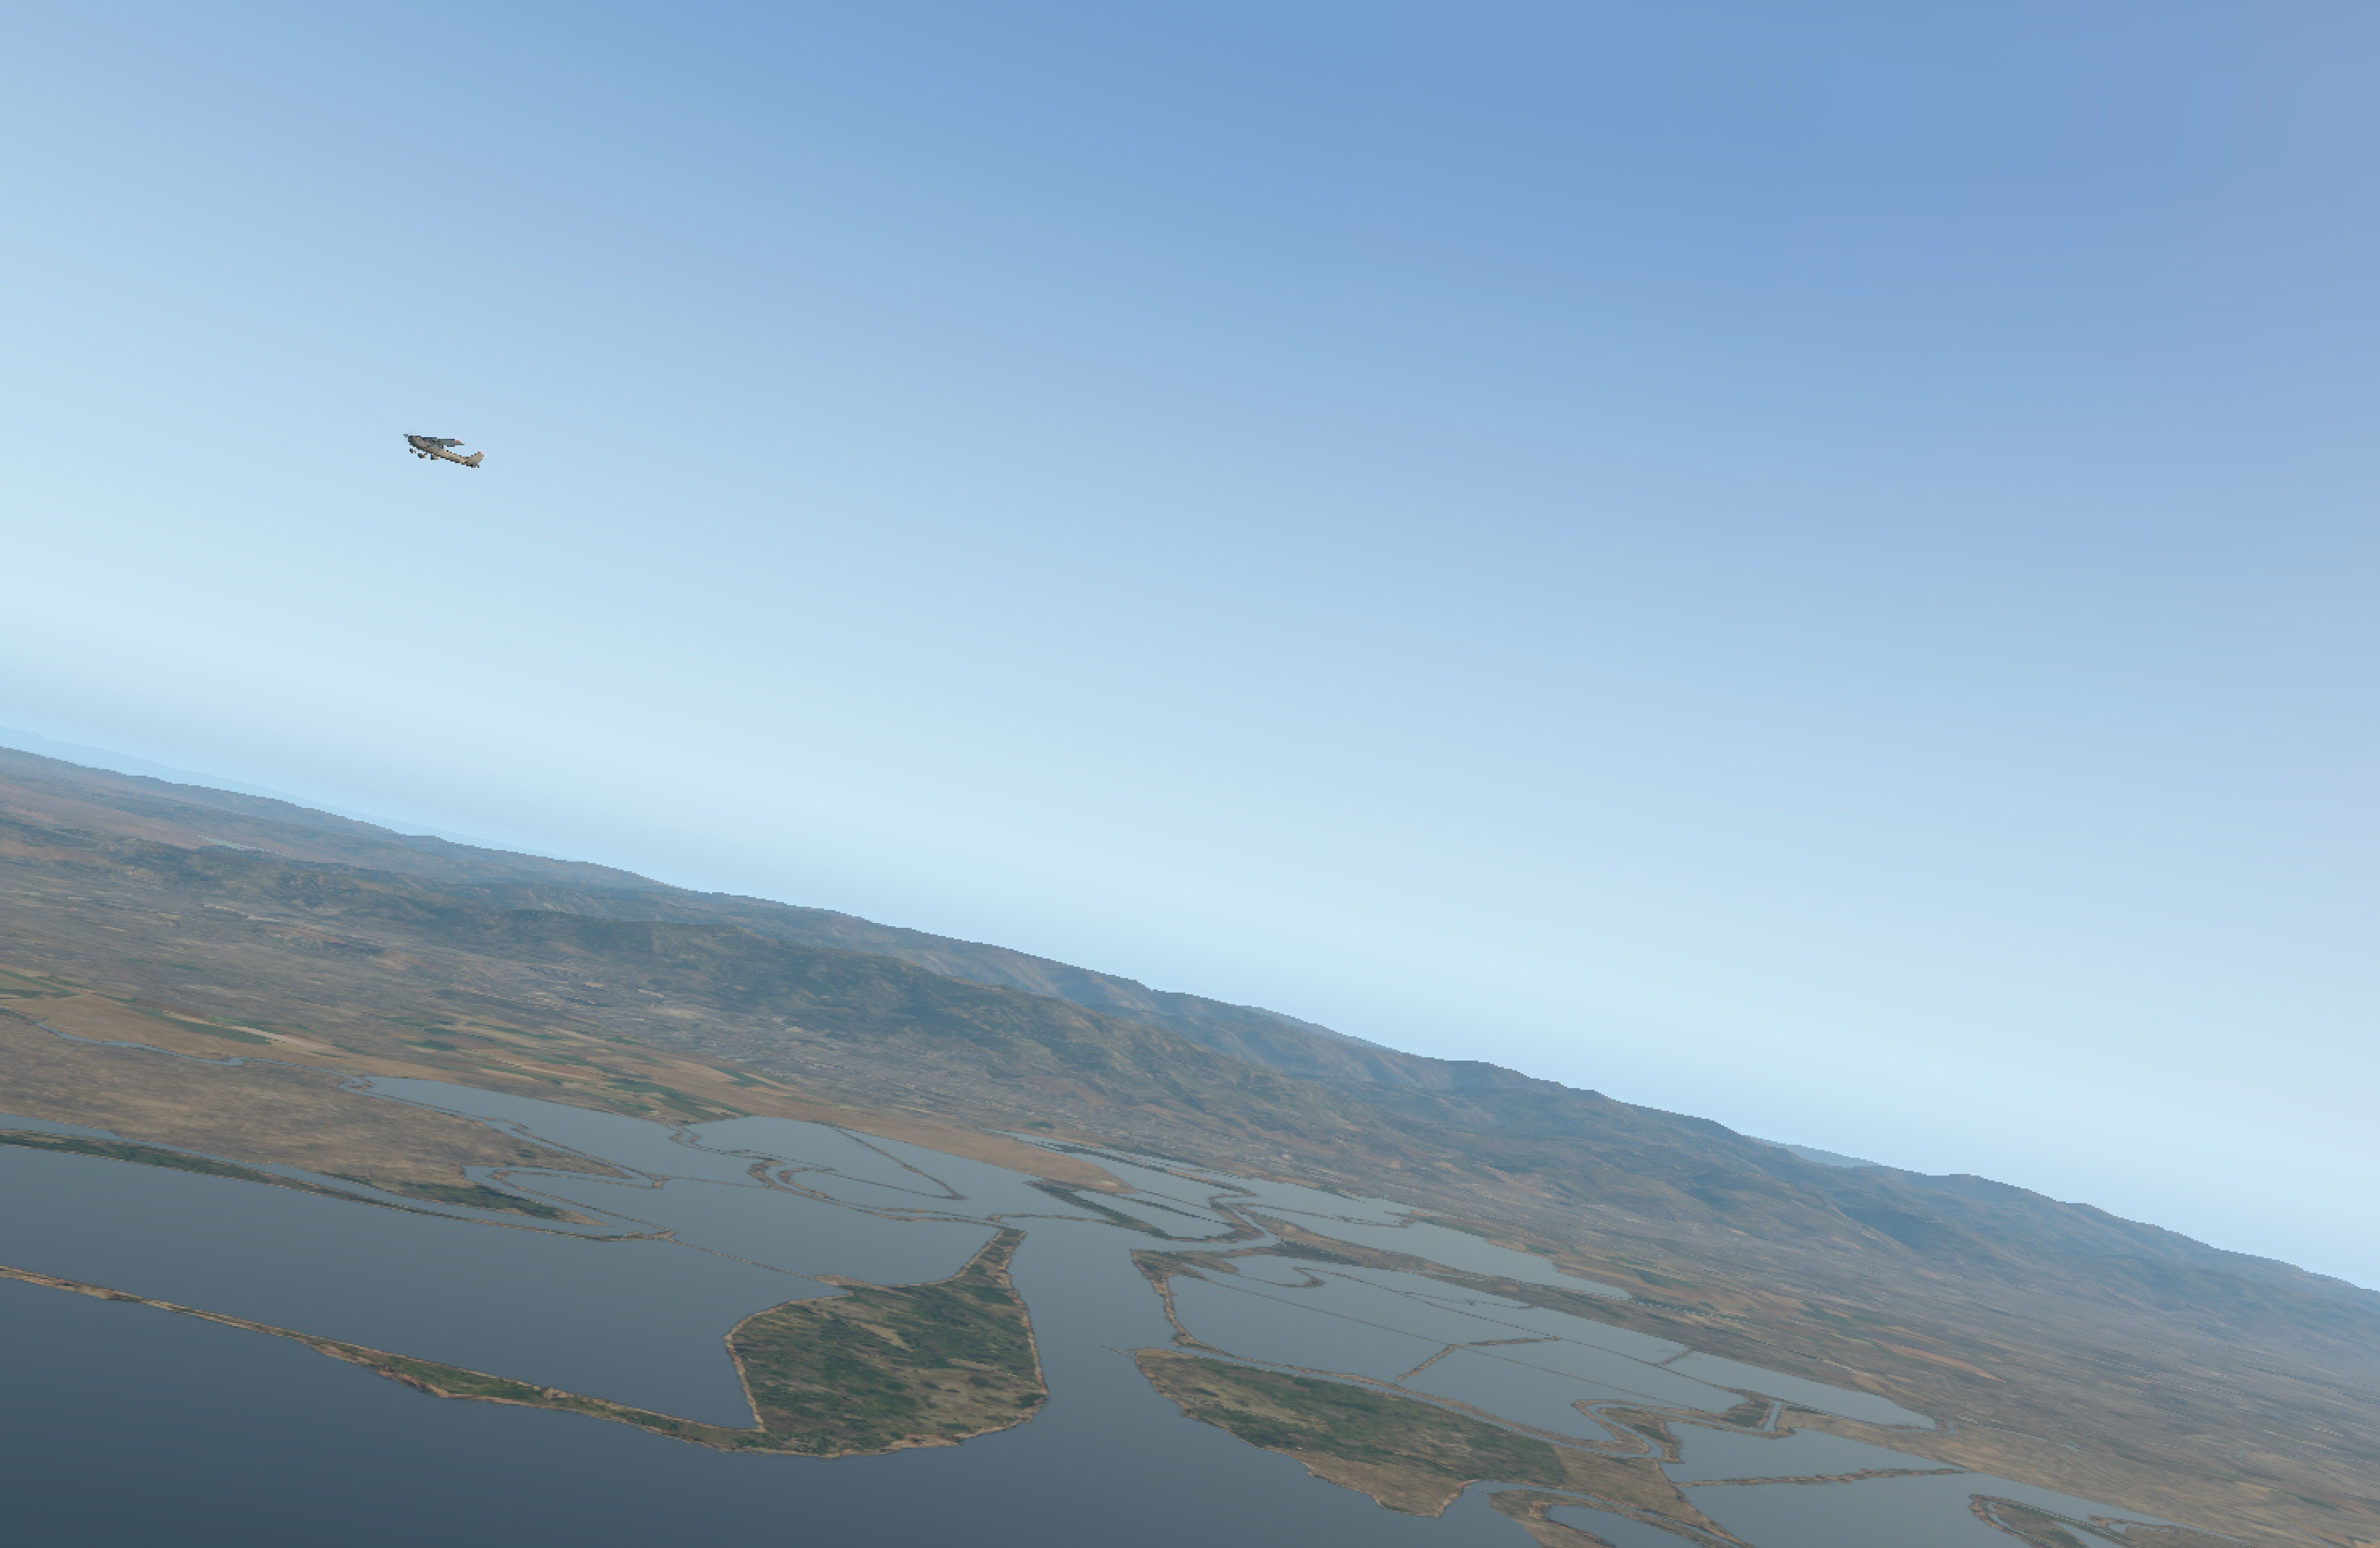aircraft: (392, 430, 467, 458)
